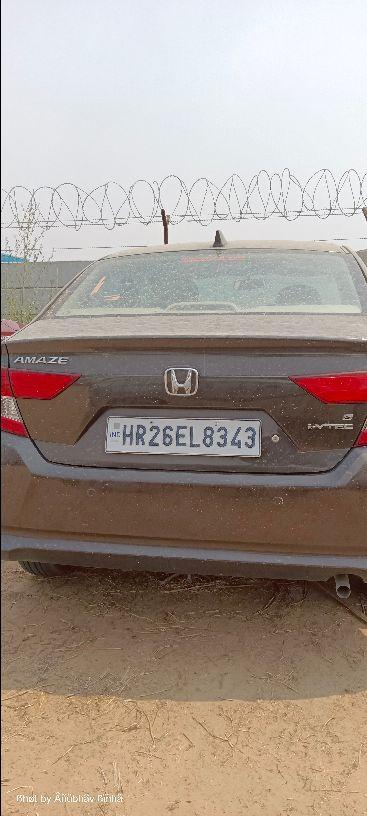license_plate: (104, 415, 262, 457)
